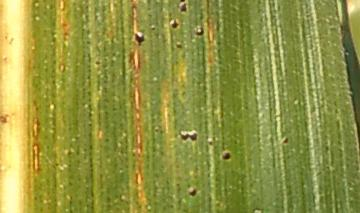tarspot: (131, 27, 147, 48), (179, 128, 200, 143), (221, 147, 234, 165), (176, 1, 189, 16), (169, 17, 182, 30), (187, 185, 199, 199), (193, 23, 204, 38), (171, 39, 185, 49), (280, 135, 292, 145)
